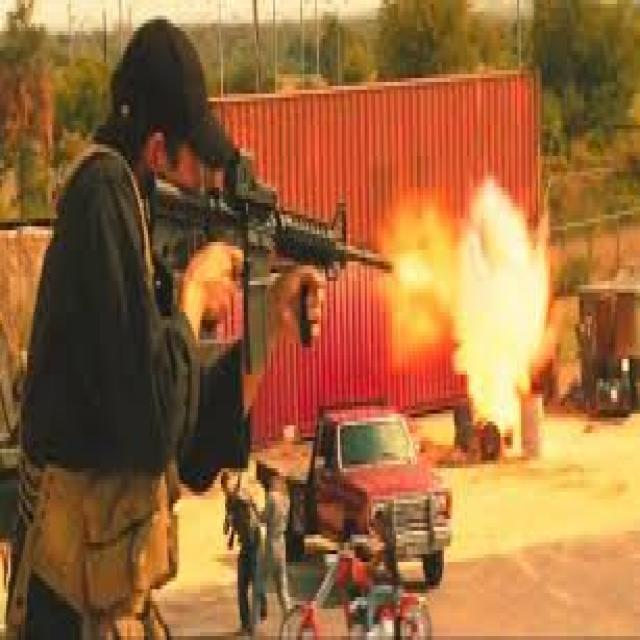weapon: (148, 152, 394, 378)
